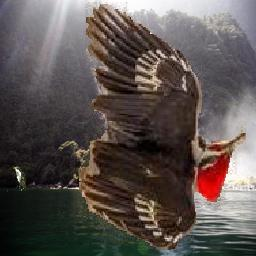Cuckoo: (14, 167, 27, 192)
Woodpecker: (80, 2, 247, 250)
